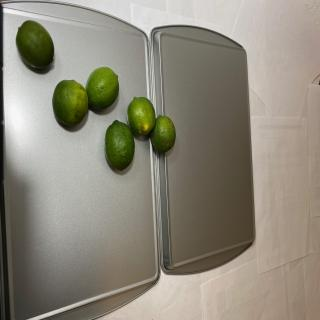Chilli: (16, 20, 54, 70)
Lemon: (52, 79, 88, 127), (104, 120, 135, 171), (85, 66, 119, 110), (126, 96, 156, 136), (150, 114, 176, 153)
